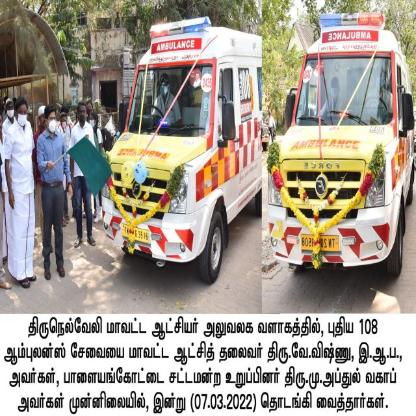priority: (102, 20, 260, 292), (268, 11, 412, 266)
